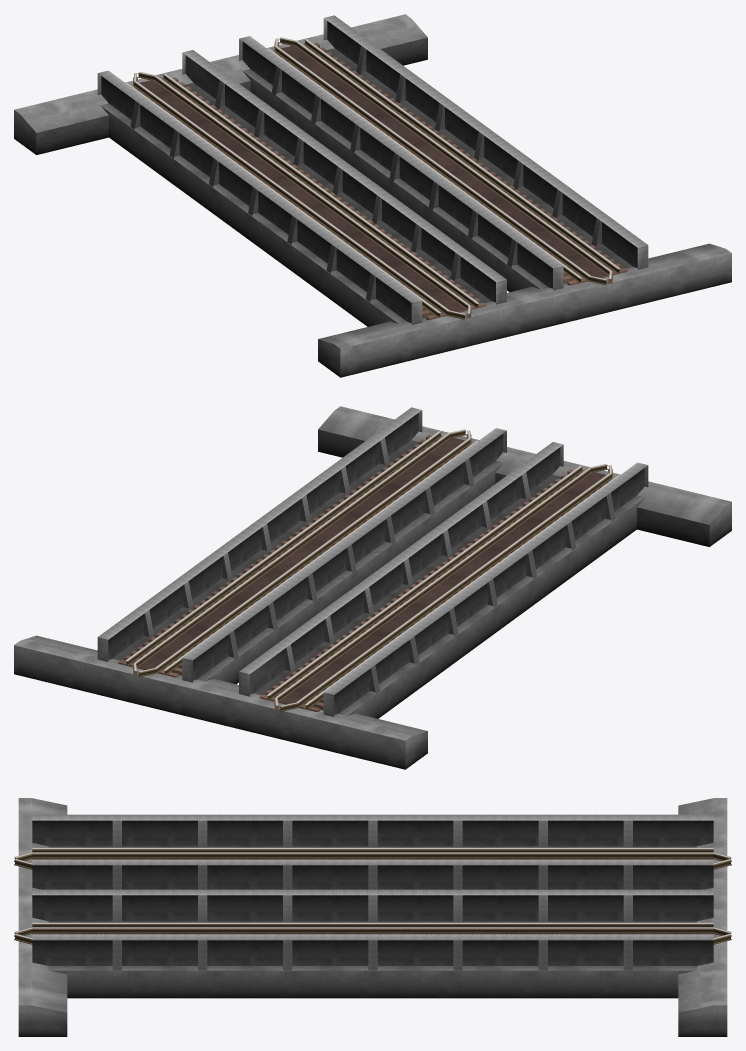
Rendered from MEI_2RAIL_BRIDGE50.glb.
3 renders of one model, top to bottom at view 1: azimuth 30°, elevation 25°; view 2: azimuth 150°, elevation 25°; view 3: azimuth 270°, elevation 25°, orthographic. The views are drawn at different scales.
Parts seen in each view (by area): view 1: obj16, J08, J00, obj4; view 2: obj16, J00, J08, bone0; view 3: obj16, J00, J08.
Boxes of the visible parts, box(x1,y1,x2,y2) form: obj16: box(97, 15, 648, 326); J08: box(318, 243, 731, 377); J00: box(14, 14, 427, 154); obj4: box(410, 245, 627, 319); obj16: box(97, 407, 648, 718); J00: box(14, 635, 427, 769); J08: box(318, 406, 731, 546); bone0: box(118, 637, 335, 711); obj16: box(32, 814, 713, 998); J00: box(678, 798, 731, 1036); J08: box(14, 798, 67, 1036).
Bounding box in the file's own units: 36 × 4.51 × 52.7.
19 materials, 16 textured.
